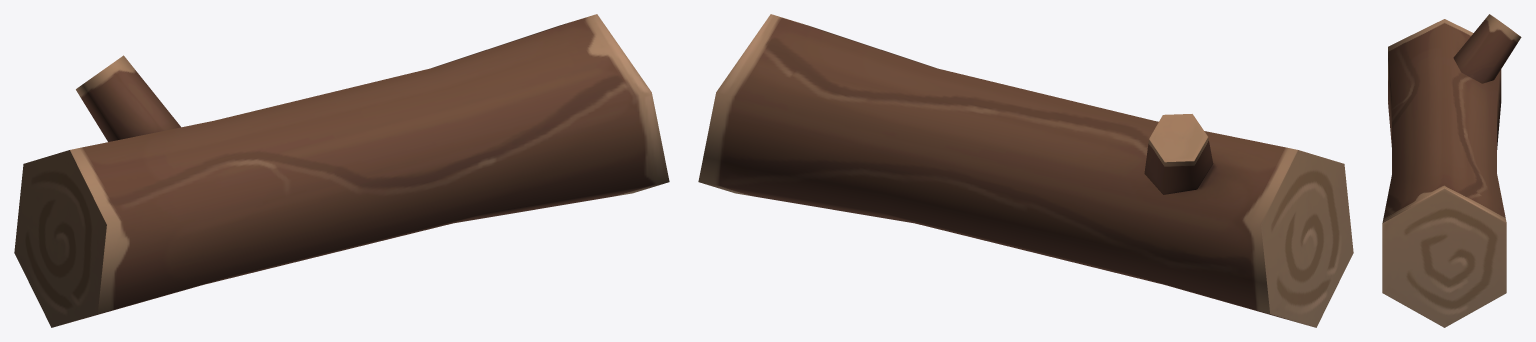
Rendered from forest_strump_01.fbx.
The picture shows the model from 3 angles, left to right: view 1: azimuth 30°, elevation 25°; view 2: azimuth 150°, elevation 25°; view 3: azimuth 270°, elevation 25°; orthographic projection. The views are drawn at different scales.
Visible parts, largest first — view 1: forest_strump_01; view 2: forest_strump_01; view 3: forest_strump_01.
Part boxes in pixels (x1,y1,x2,y2): forest_strump_01: (14,14,669,327); forest_strump_01: (698,14,1353,327); forest_strump_01: (1382,14,1521,327).
Bounding box in the file's own units: 3.03 × 1.11 × 0.9247.
